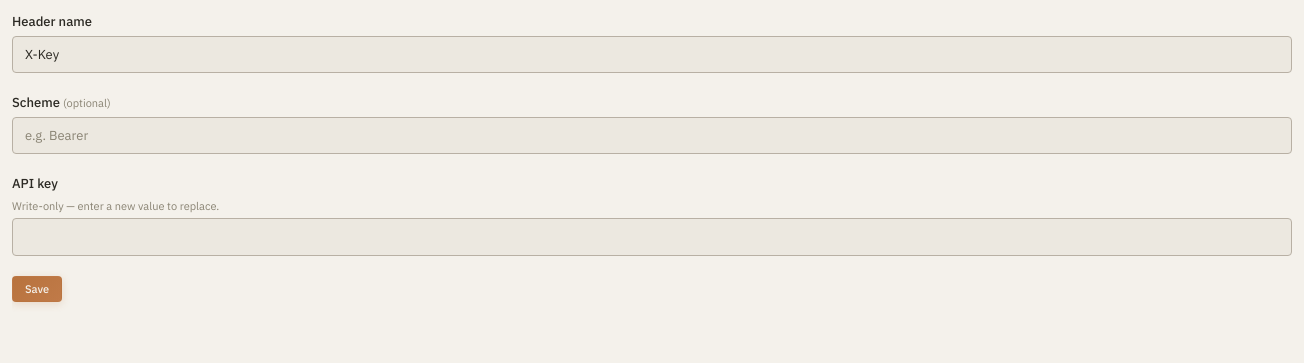
Test case: mutation error surfacing › shows inline error when PUT static-api-key fails
The image size is (1304, 363).
Step 1. Type "bad-key" into the password field labelled "API key" → (652, 237), box [12,218,1292,256]
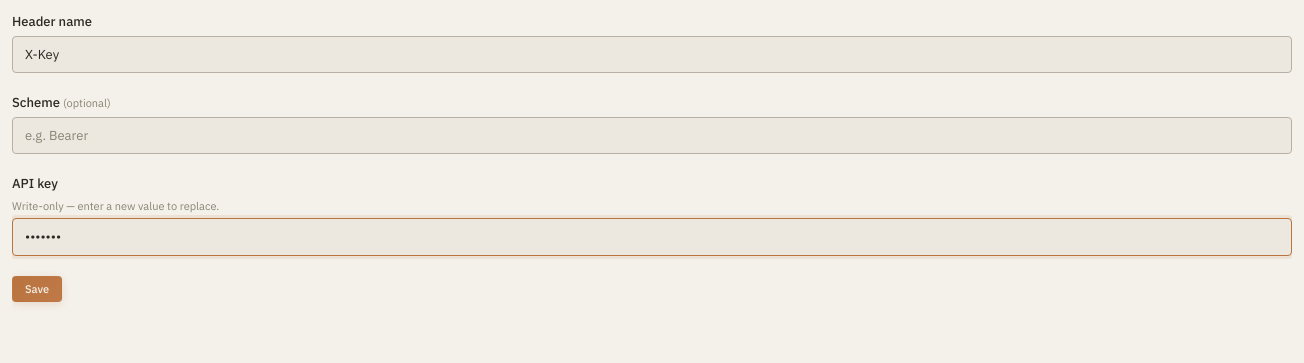
Step 2. Click the button "Save" → (37, 289), box [12,276,62,302]
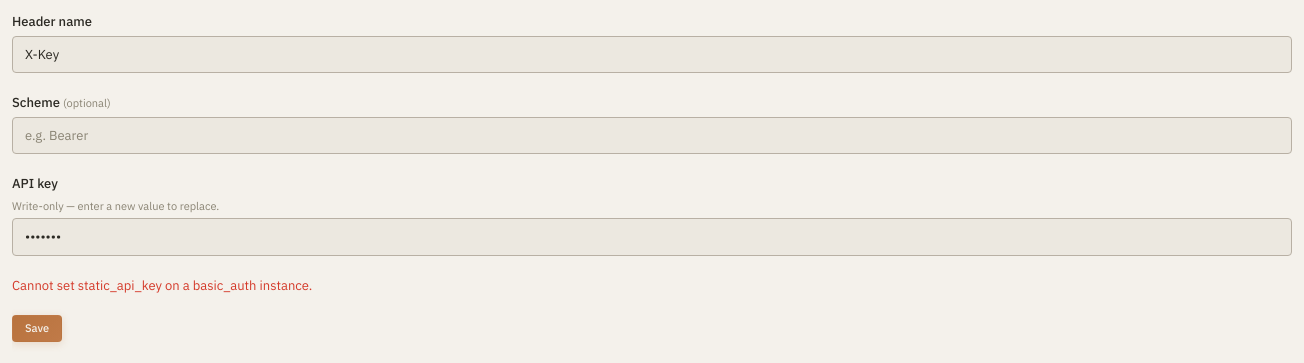
Check: the message shows "Cannot set static_api_key", box [12,276,312,294]
